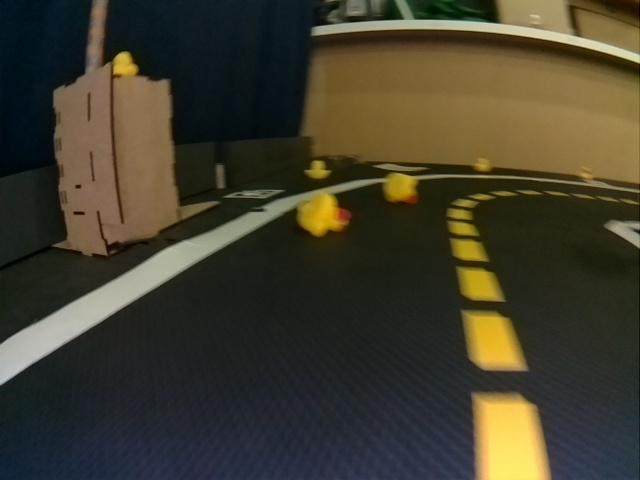Duckie: (298, 196, 350, 235), (383, 175, 418, 204), (111, 54, 137, 75), (306, 161, 330, 179), (473, 158, 492, 172)
QR code: (224, 187, 283, 200)
